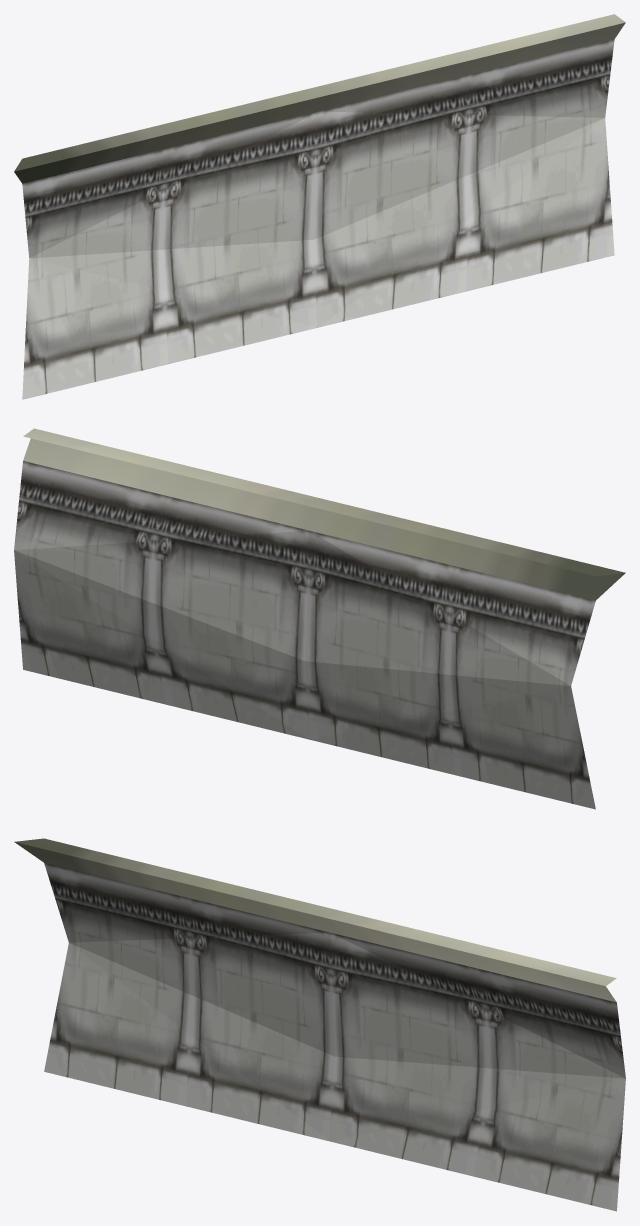
Rendered from W_A2l_xxxx [Antik]_363.glb.
3 renders of one model, top to bottom at view 1: azimuth 30°, elevation 25°; view 2: azimuth 150°, elevation 25°; view 3: azimuth 330°, elevation 25°, orthographic. The views are drawn at different scales.
Visible parts, largest first — view 1: polySurfaceShape787, polySurfaceShape1065; view 2: polySurfaceShape787, polySurfaceShape1065; view 3: polySurfaceShape787, polySurfaceShape1065.
Boxes of the visible parts, left/top/right/bottom form: polySurfaceShape787: left=22, top=39, right=614, bottom=399; polySurfaceShape1065: left=14, top=14, right=625, bottom=183; polySurfaceShape787: left=14, top=461, right=595, bottom=809; polySurfaceShape1065: left=23, top=428, right=625, bottom=600; polySurfaceShape787: left=44, top=863, right=625, bottom=1211; polySurfaceShape1065: left=14, top=838, right=616, bottom=1002.
Bounding box in the file's own units: 1.03 × 0.3891 × 0.0607.
2 materials, 2 textured.
